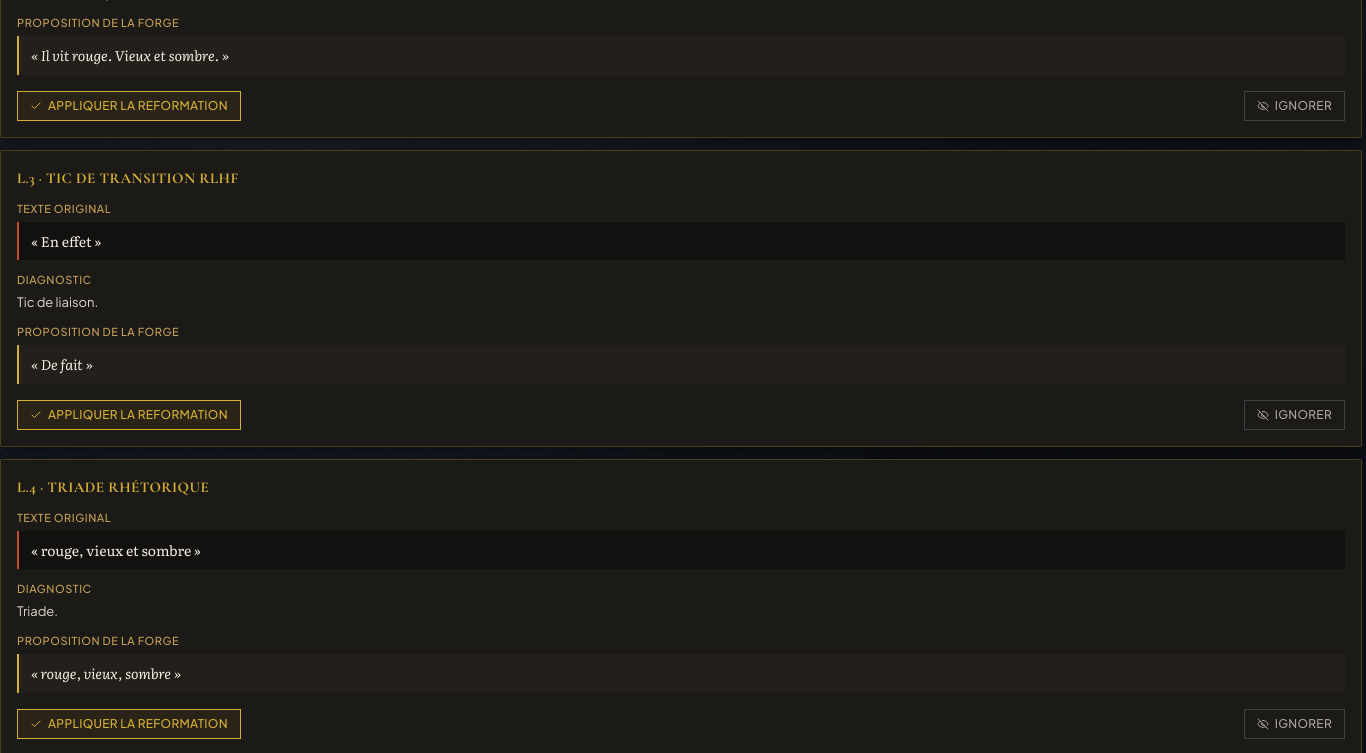
Scenario: ignores an alert for the session without touching the file
This screenshot has width=1366, height=753.
(page scrolled)
Click the 2nd button "Ignorer" at (1294, 414), box [1244, 400, 1345, 430]
(page scrolled)
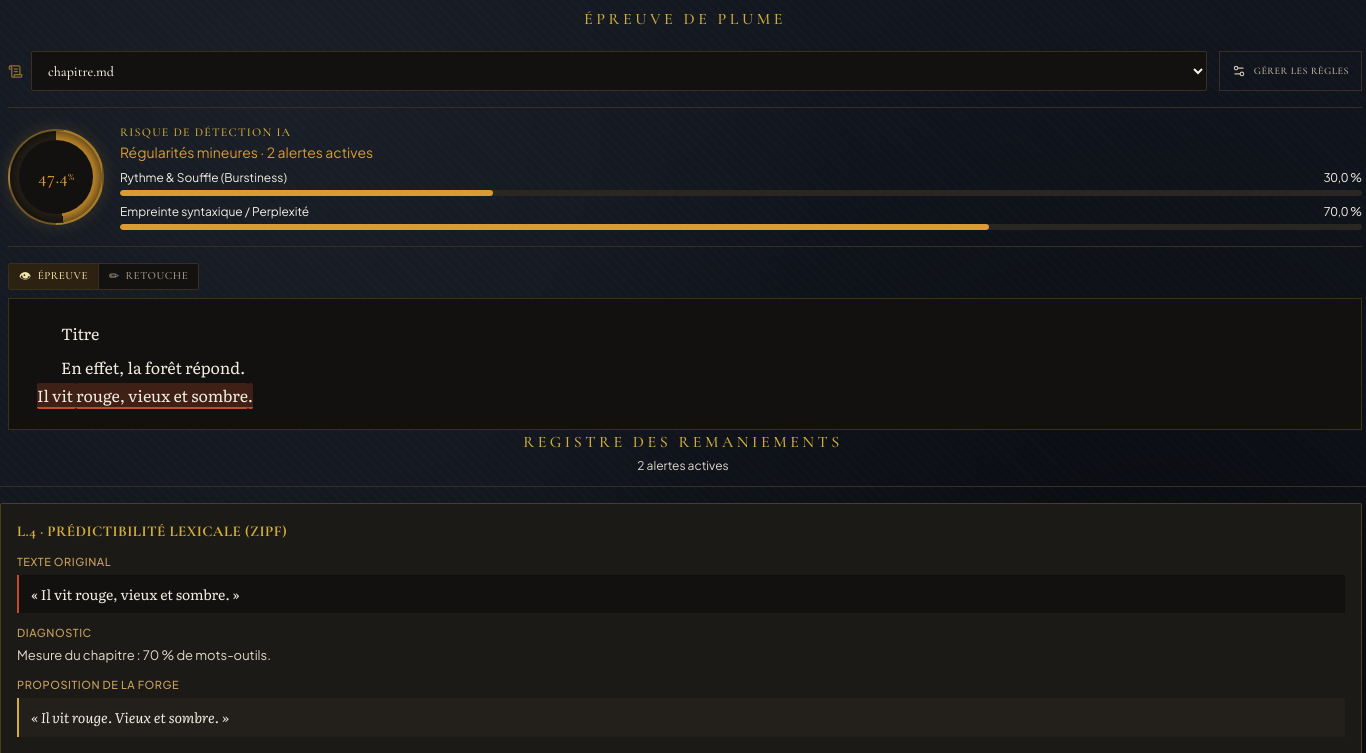
Now the text "2 alertes actives" is shown, box [637, 458, 729, 472]
Now the heading "L.3 · Tic de transition RLHF" is gone
Now the picture named "Risque IA : 47.4 pour cent" is shown, box [8, 129, 104, 225]
